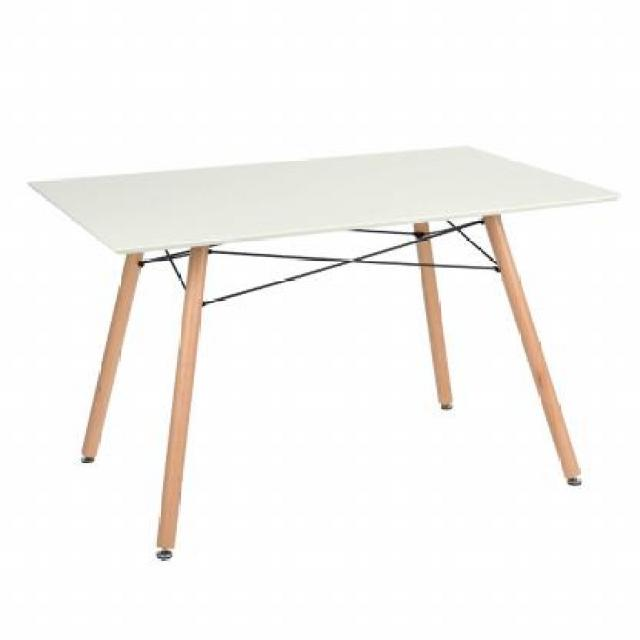table: (22, 145, 626, 562)
